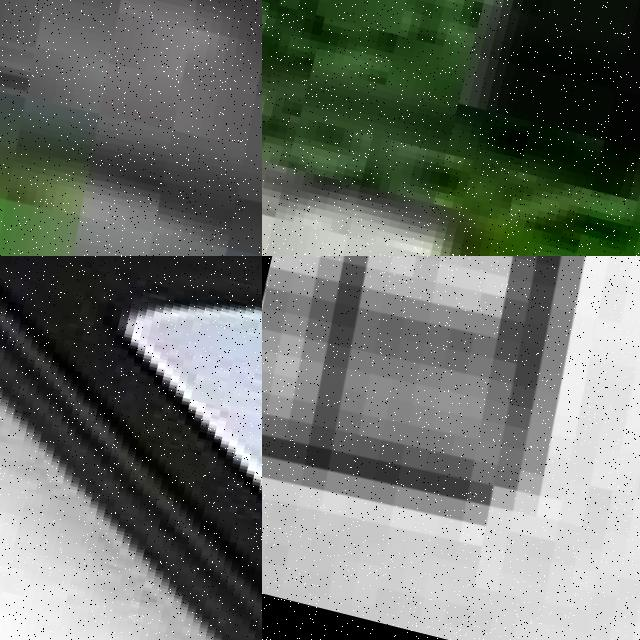0: (0, 0, 262, 256)
drone: (262, 256, 640, 640)
